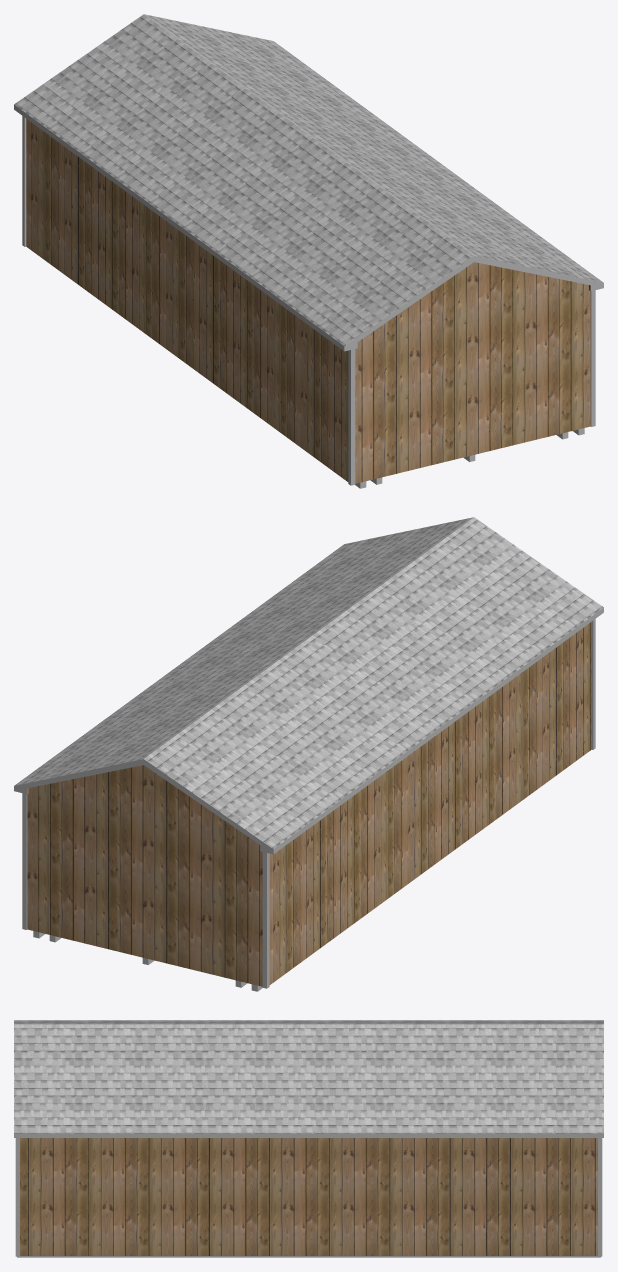
Rendered from Single Garage A-frame_14x32.obj.
3 renders of one model, top to bottom at view 1: azimuth 30°, elevation 25°; view 2: azimuth 150°, elevation 25°; view 3: azimuth 270°, elevation 25°, orthographic. The views are drawn at different scales.
Parts seen in each view (by area): view 1: Roof, Shed, Sides, Trim; view 2: Roof, Shed, Sides, Trim; view 3: Shed, Roof, Sides, Trim, Floor.
Boxes of the visible parts, box(x1,y1,x2,y2) form: Roof: box(14, 14, 603, 345); Shed: box(26, 119, 590, 483); Sides: box(14, 104, 603, 351); Trim: box(22, 116, 595, 485); Roof: box(14, 517, 603, 848); Shed: box(27, 622, 591, 986); Sides: box(14, 607, 603, 854); Trim: box(22, 619, 595, 988); Shed: box(20, 1138, 597, 1255); Roof: box(14, 1020, 603, 1133); Sides: box(14, 1133, 603, 1137); Trim: box(15, 1138, 602, 1256); Floor: box(17, 1256, 600, 1257).
Bounding box in the file's own units: 4.47 × 3.4 × 9.86.
